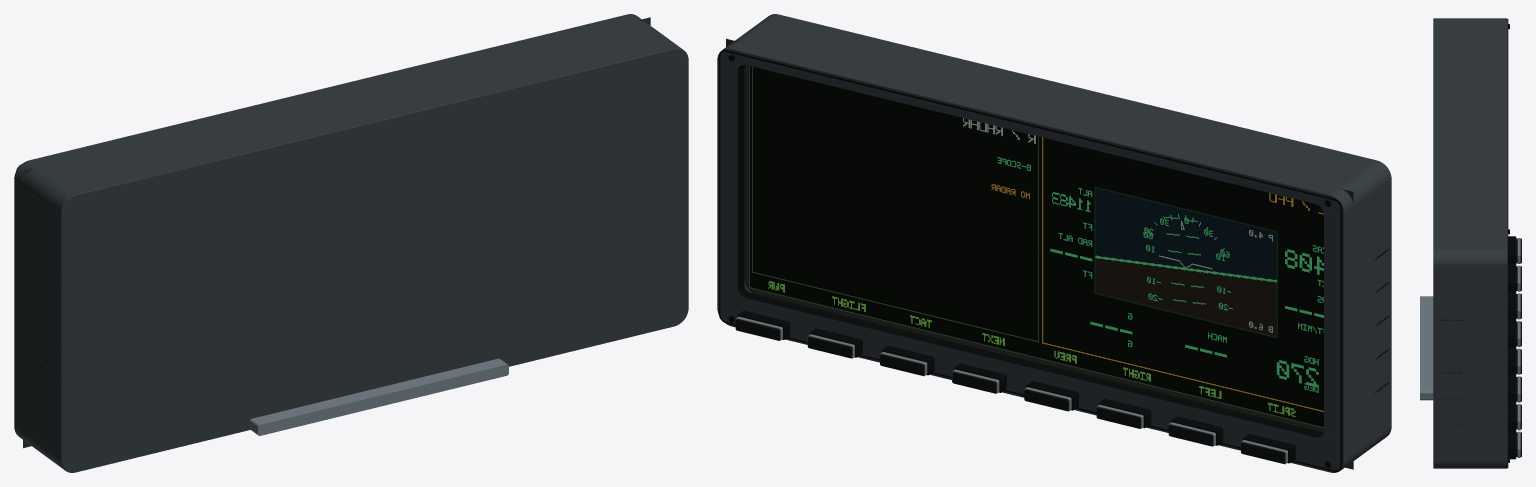
Rendered from MFDStudio.obj.
The picture shows the model from 3 angles, left to right: view 1: azimuth 30°, elevation 25°; view 2: azimuth 150°, elevation 25°; view 3: azimuth 270°, elevation 25°; orthographic projection. The views are drawn at different scales.
Parts seen in each view (by area): view 1: MFDStudioBody; view 2: MFDStudioScreen, MFDStudioBody; view 3: MFDStudioBody.
Boxes of the visible parts, x1,y1,x2,y2 form: MFDStudioBody: (14, 14, 688, 472); MFDStudioScreen: (726, 38, 1353, 469); MFDStudioBody: (717, 14, 1391, 472); MFDStudioBody: (1420, 18, 1520, 468).
Bounding box in the file's own units: 0.52 × 0.22 × 0.093.
Materials: 8 (1 with a texture image).
